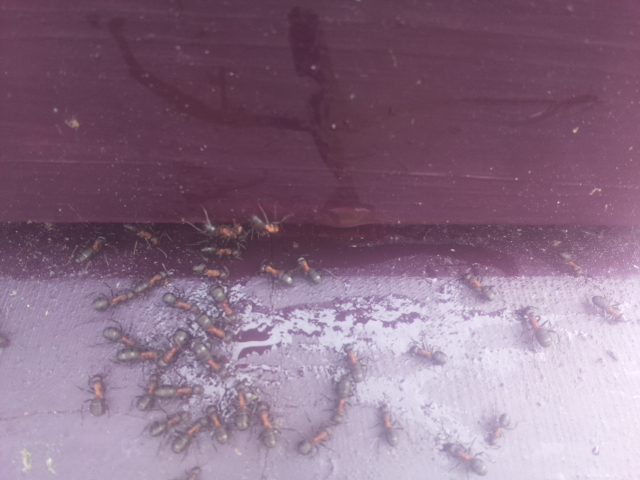ant: (160, 279, 230, 350), (85, 263, 155, 324), (95, 318, 160, 370), (434, 436, 495, 479), (169, 407, 212, 463), (153, 321, 196, 375), (183, 338, 235, 382), (371, 396, 406, 451), (455, 267, 500, 307), (293, 420, 338, 459), (84, 368, 111, 425), (204, 279, 240, 321), (204, 400, 232, 454), (133, 370, 166, 415), (405, 338, 452, 368), (524, 307, 554, 353), (481, 407, 513, 450), (254, 259, 298, 289), (588, 293, 629, 325), (146, 410, 196, 436), (74, 232, 109, 268), (341, 341, 369, 385), (293, 253, 325, 288), (256, 407, 278, 451), (247, 212, 284, 237), (232, 388, 252, 434), (331, 376, 355, 414), (174, 465, 206, 480)
